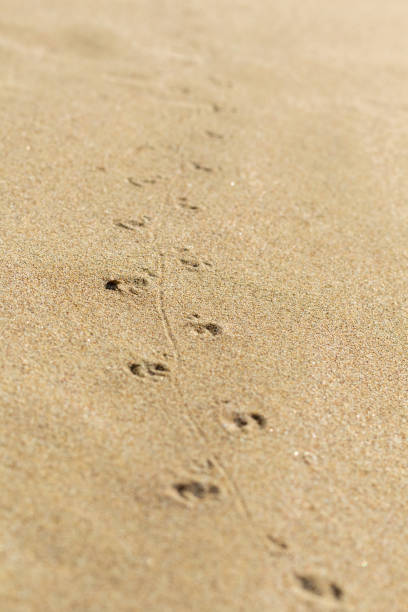animal_footprint: (294, 573, 344, 608), (169, 479, 220, 503), (104, 272, 151, 294), (223, 411, 266, 431), (188, 313, 222, 335), (128, 360, 169, 378), (179, 247, 211, 270), (114, 215, 150, 230), (266, 534, 288, 555), (126, 175, 161, 187), (178, 196, 199, 210), (192, 161, 212, 172), (206, 130, 223, 138)
